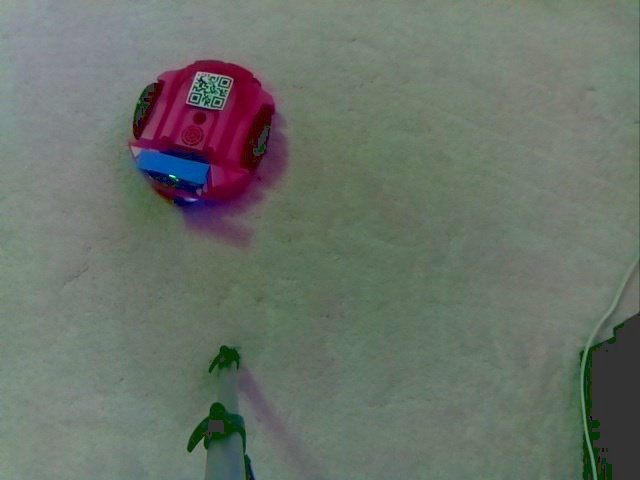board: (126, 133, 216, 198)
chassis: (123, 54, 283, 211)
